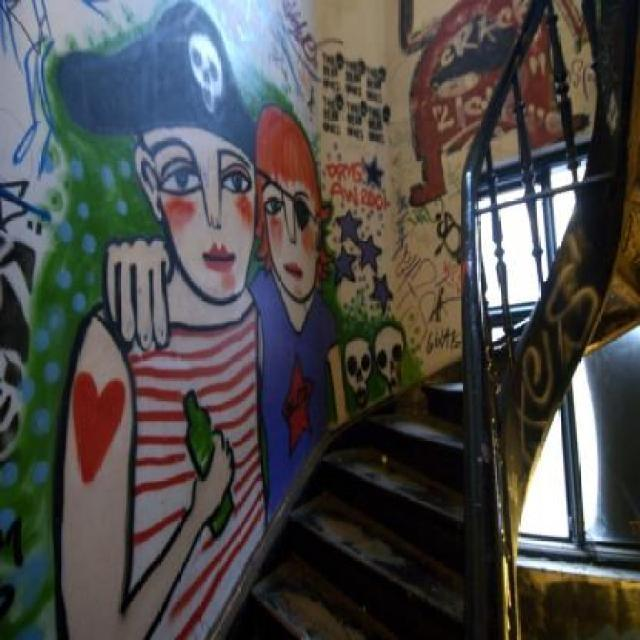stair: (222, 337, 522, 640)
